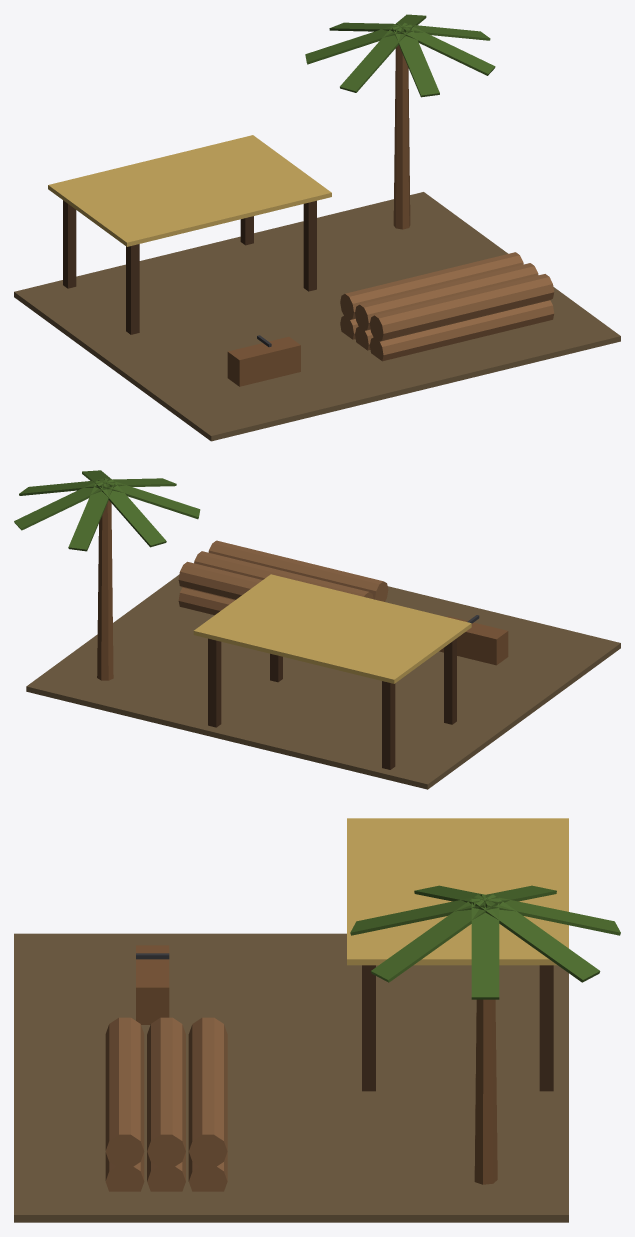
File: lumber.glb
3 views of the same model, one above another, from view 1: azimuth 30°, elevation 25°; view 2: azimuth 150°, elevation 25°; view 3: azimuth 270°, elevation 25° (orthographic). The views are drawn at different scales.
Visible parts, largest first — view 1: Lumber; view 2: Lumber; view 3: Lumber.
Boxes of the visible parts, x1,y1,x2,y2 form: Lumber: (14, 14, 620, 441); Lumber: (14, 470, 620, 789); Lumber: (14, 818, 620, 1222).
Size of the model in its own units: 12.95 by 5.73 by 10.94.
